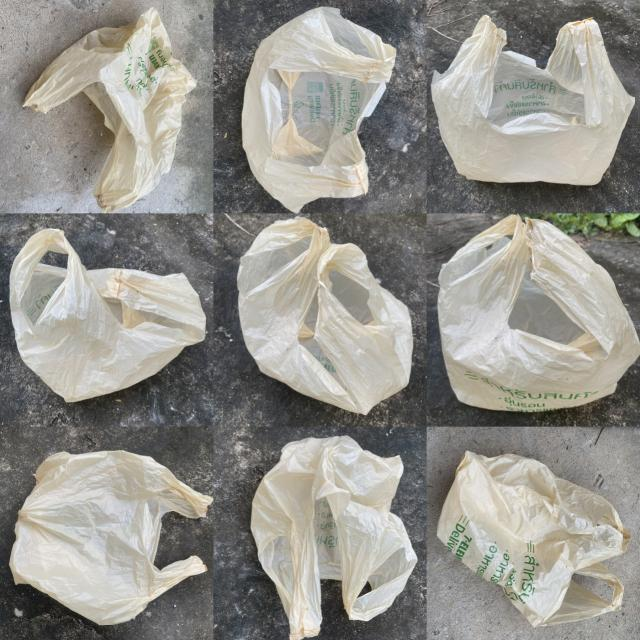Single-layer Plastic: (438, 215, 640, 411), (10, 451, 212, 625), (24, 8, 196, 212), (431, 16, 635, 185), (251, 436, 418, 639), (238, 219, 412, 413), (438, 451, 630, 626), (10, 229, 205, 401), (242, 8, 396, 212)
